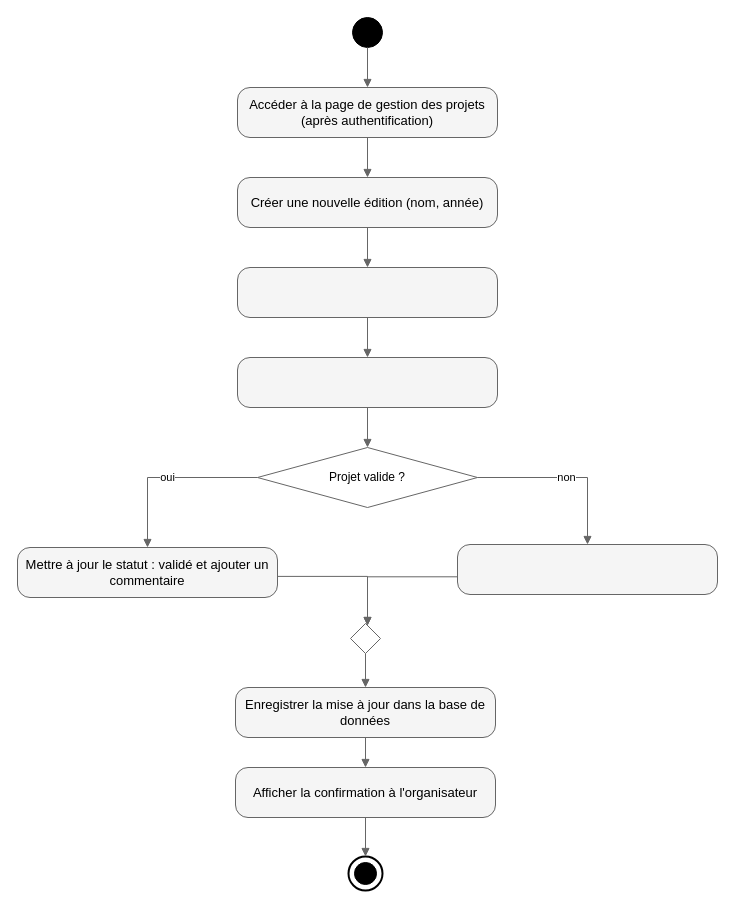
This 735x909 diagram has some shape labels left out. The shapes that lost their labels are listed below. From the top down, each one's box as (x1, y1, x2, y2) in pixels, then its label:
(236, 266, 498, 318): Créer un groupe de projets et attribuer une salle
(236, 356, 498, 408): Sélectionner un projet à consulter
(456, 544, 718, 594): Mettre à jour le statut : refusé et ajouter un commentaire
